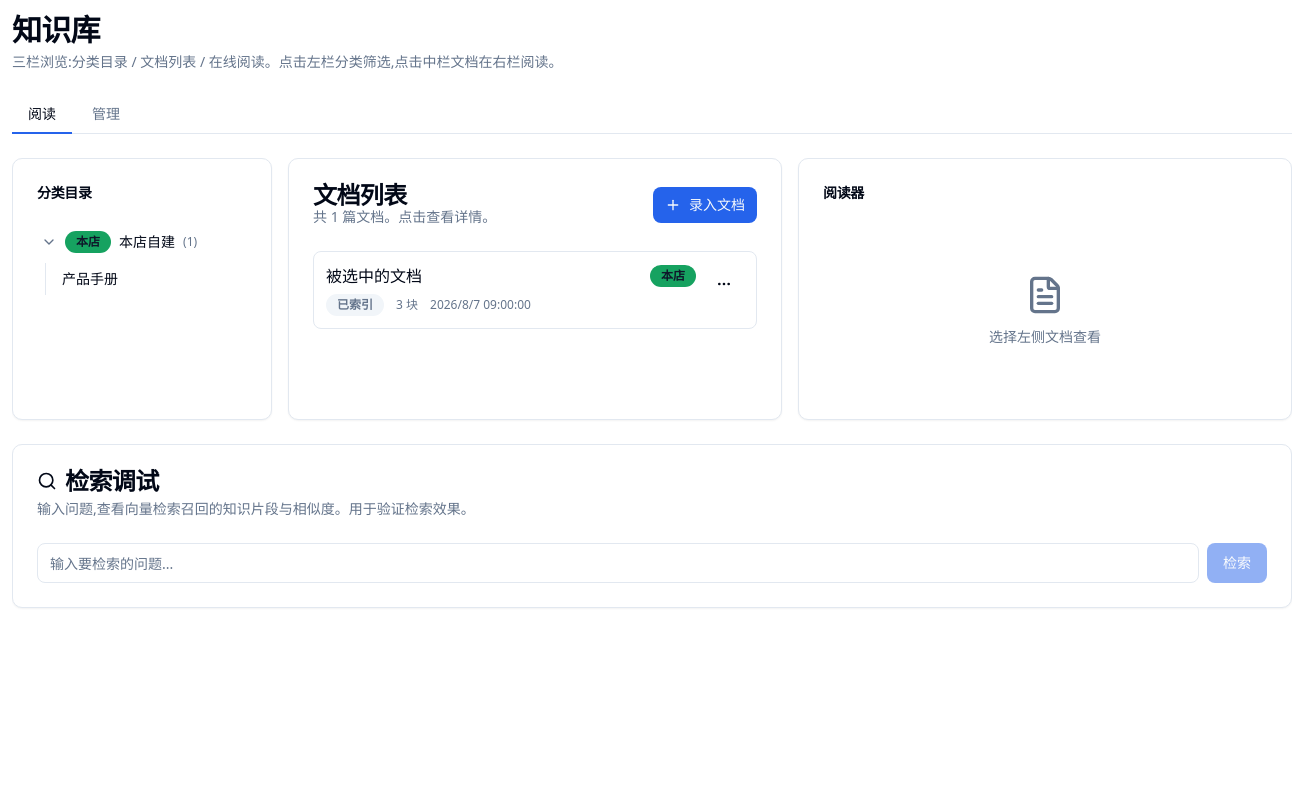
it: KnowledgePage 三栏编排 smoke + 联动(slice 02) › 联动 2:DocumentList 点击文档 → MarkdownReader 显示文档内容
The width and height of the screenshot is (1292, 812).
Check: the text "选择左侧文档查看" is shown, box [989,327,1101,347]
Click the text "被选中的文档".
click(374, 276)  # box [326,264,422,288]
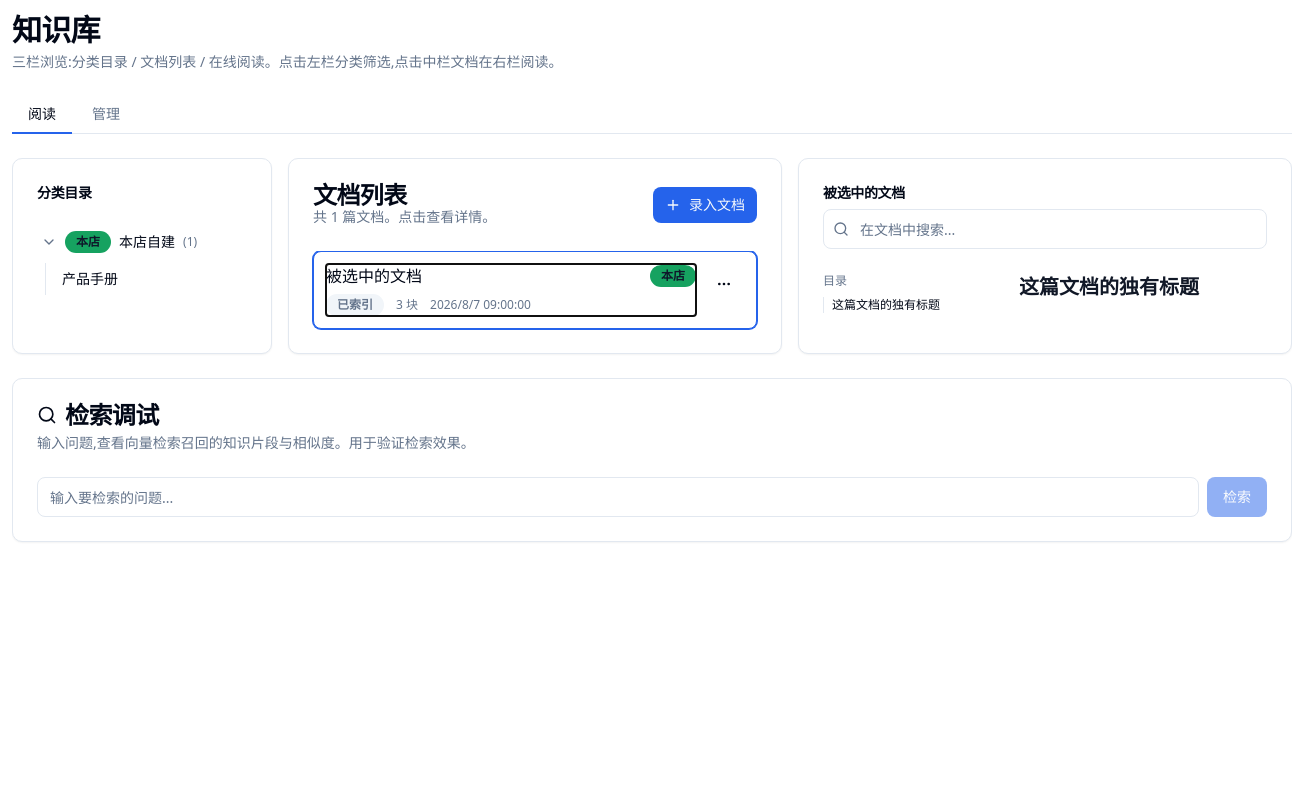
Check: the text "选择左侧文档查看" is gone
Check: the heading with id "toc-0" reads "这篇文档的独有标题", box [1019,273,1199,300]
